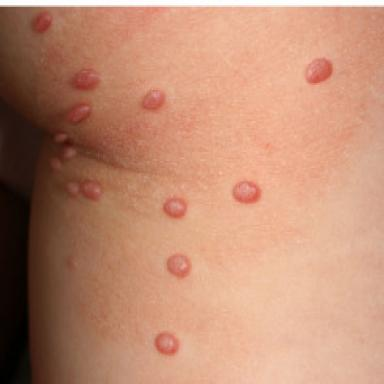Molluscum-Contagiosum: (305, 58, 332, 83), (233, 182, 261, 203), (167, 254, 190, 277), (155, 333, 179, 355), (74, 70, 100, 89), (66, 104, 91, 123), (163, 198, 186, 218), (143, 89, 165, 109), (82, 180, 102, 200), (34, 12, 52, 33), (65, 181, 80, 197), (61, 144, 77, 159), (50, 156, 62, 172), (54, 132, 68, 143)
